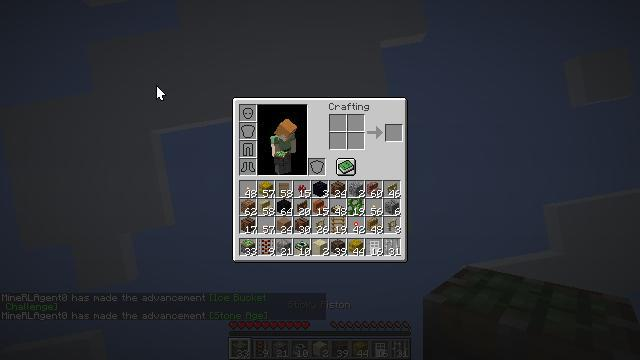cursor: (156, 85, 166, 101)
